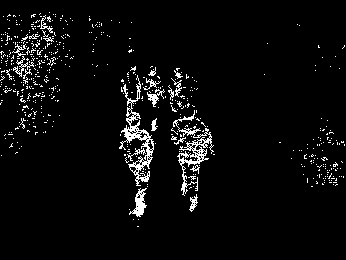person: (170, 103, 215, 217), (119, 111, 156, 226), (140, 63, 166, 135), (115, 66, 141, 119), (168, 66, 189, 117)
